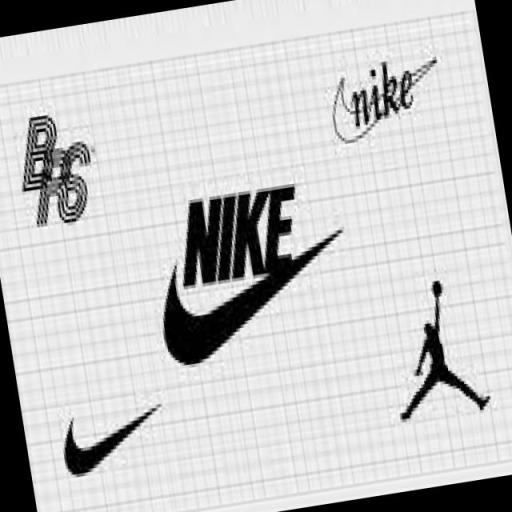Nike: (170, 183, 312, 292), (53, 397, 174, 482)
